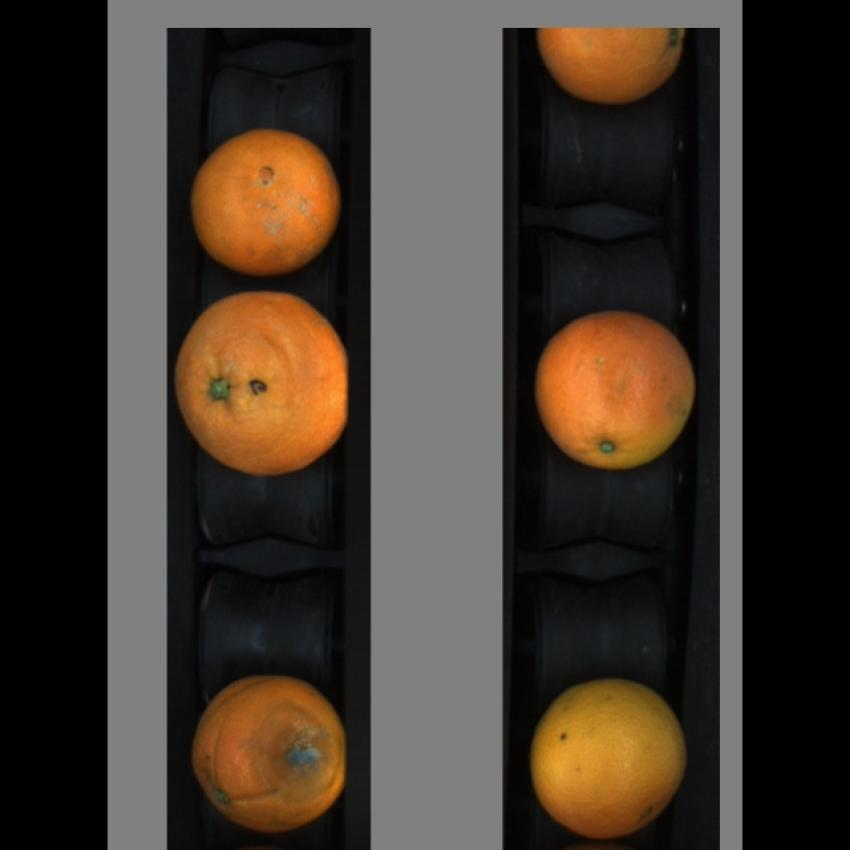Buen estado: (530, 665, 687, 833), (529, 31, 699, 104)
Mal estado: (172, 292, 352, 477), (531, 300, 699, 472), (192, 664, 350, 832), (187, 128, 345, 279)
